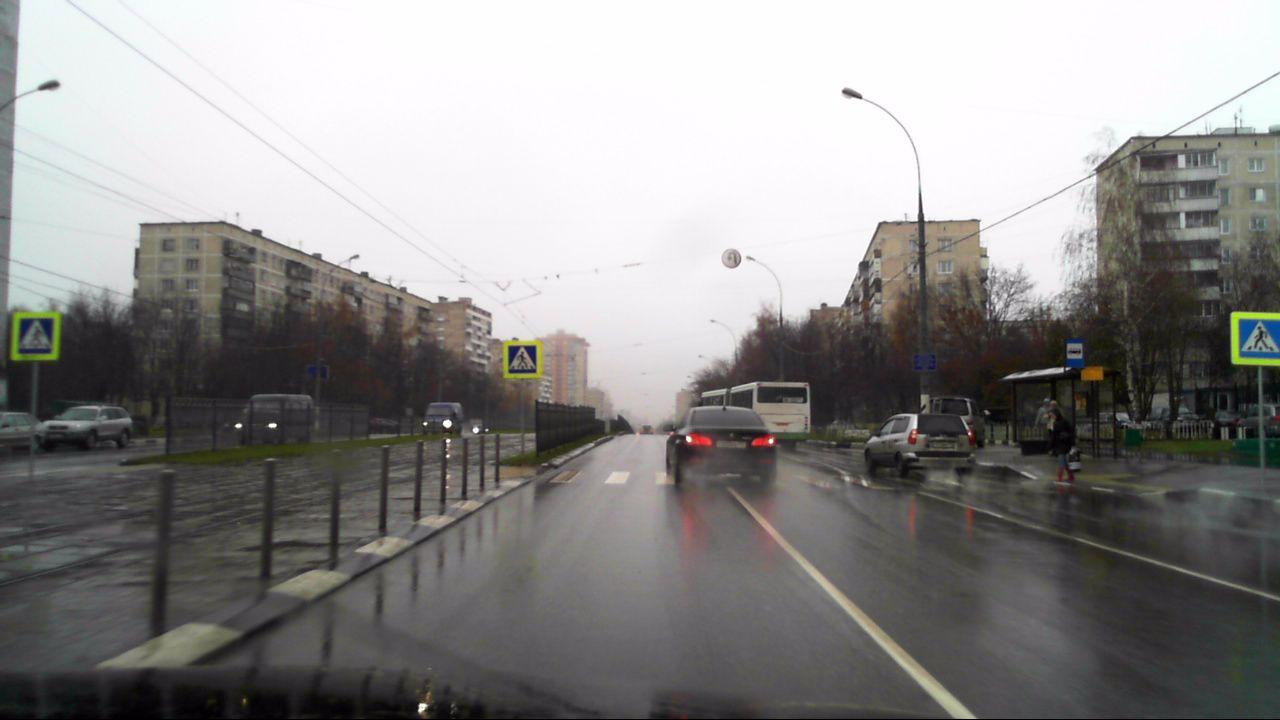3_19: (722, 247, 742, 269)
5_16: (1065, 339, 1085, 368)
5_19_1: (1238, 316, 1280, 359), (19, 316, 54, 354)
5_19_2: (508, 344, 538, 374)
